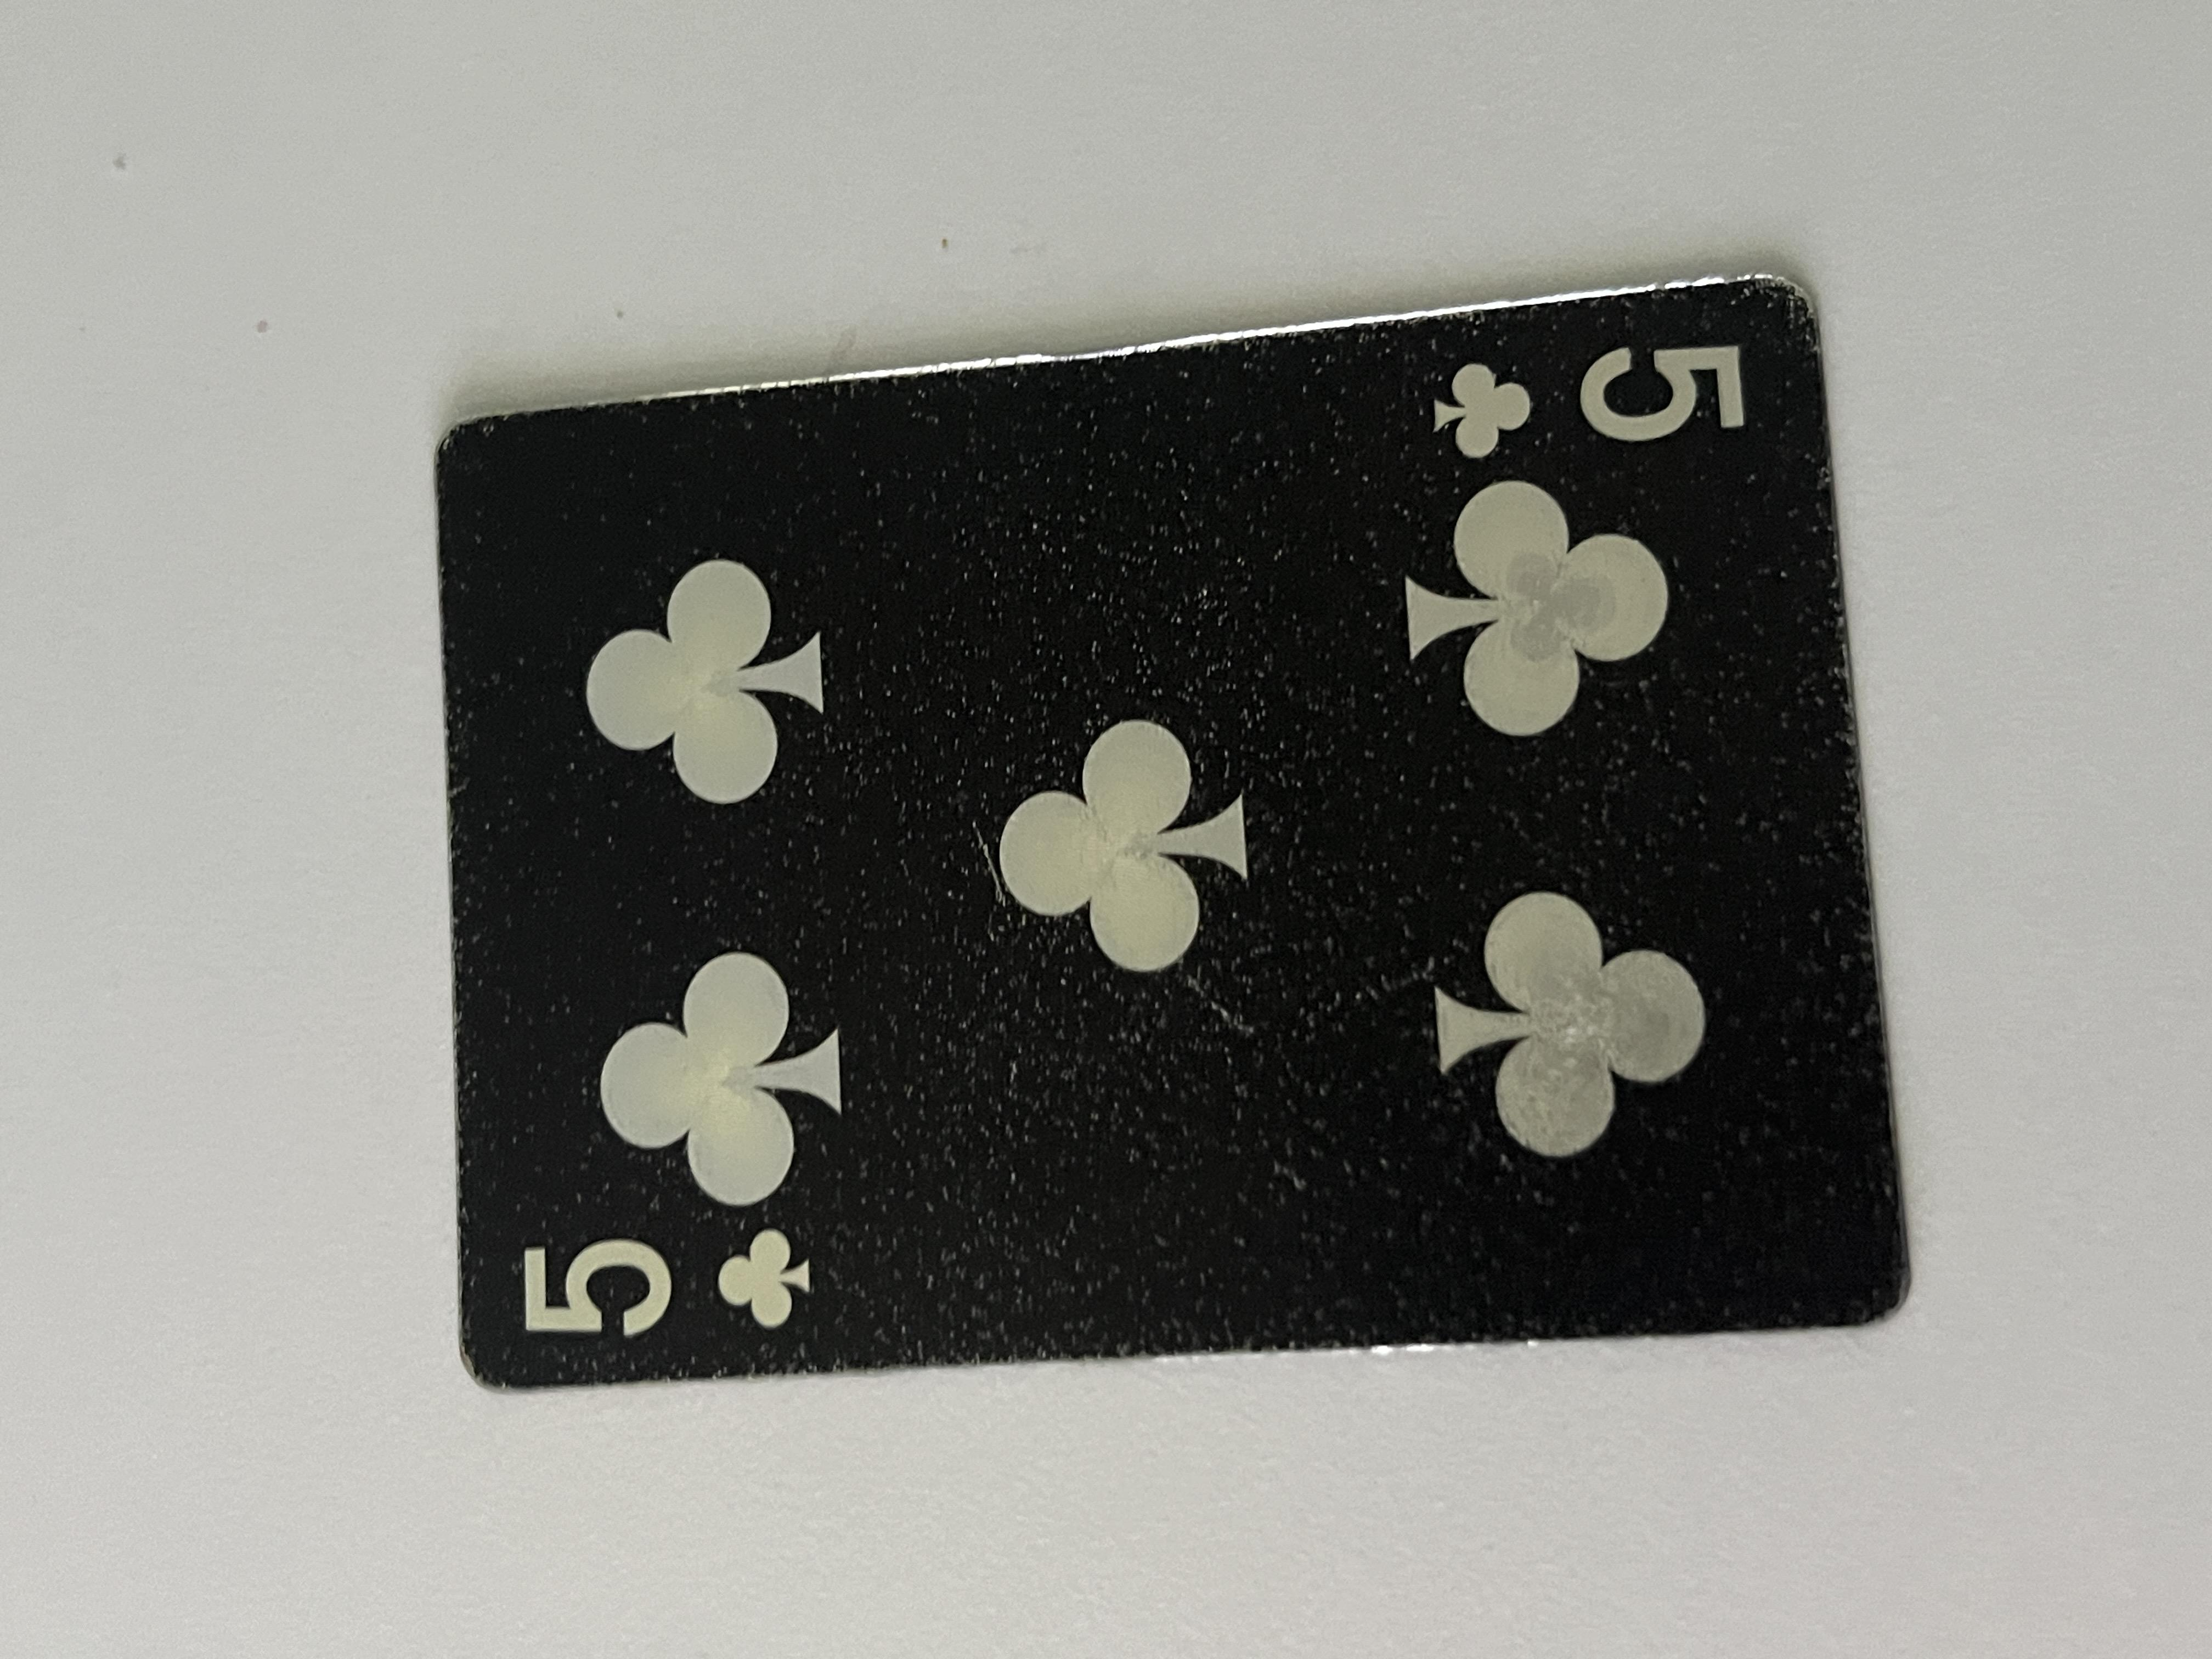5C: (388, 378, 615, 612), (1599, 1061, 1789, 1323)
